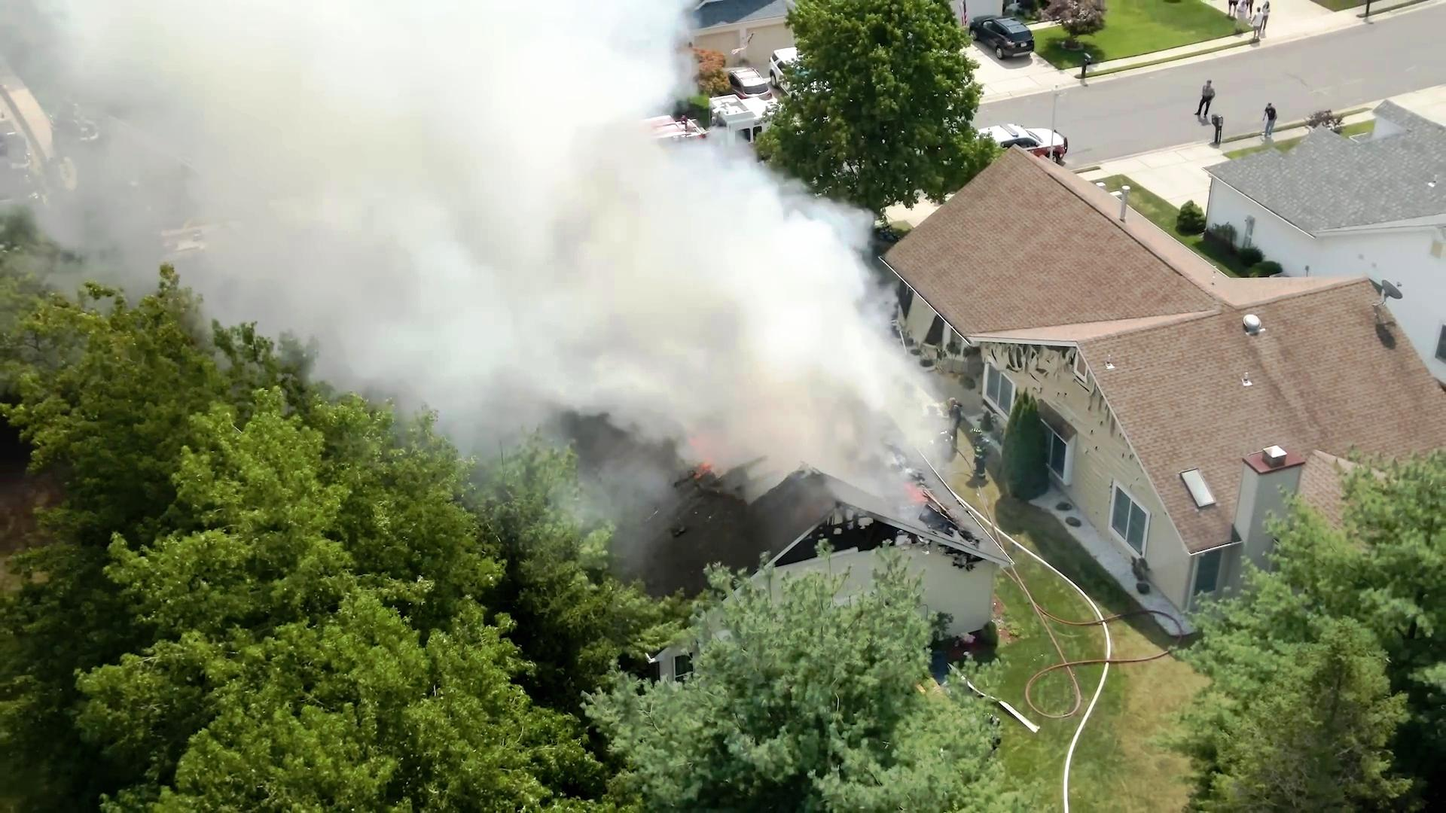smoke: (325, 0, 618, 317), (0, 0, 366, 209), (471, 159, 760, 401), (668, 216, 885, 441)
